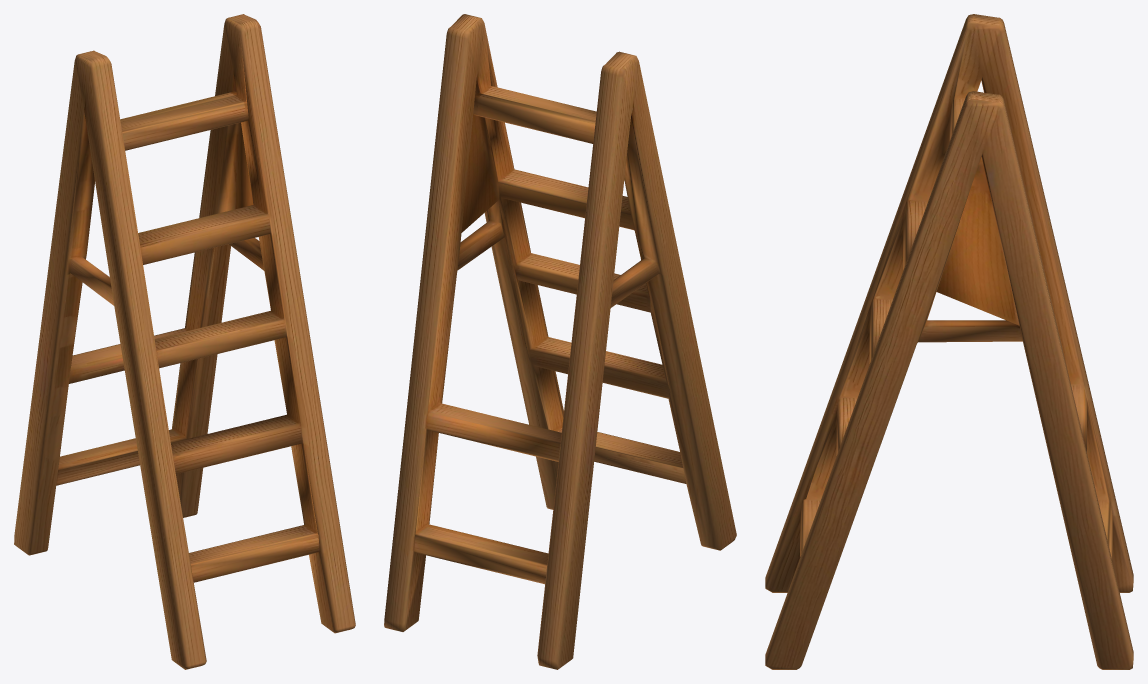
The model's file is Outdoor__a_wooden_ladder_3a9be926_v3.cluster.glb.
The picture shows the model from 3 angles, left to right: view 1: azimuth 30°, elevation 25°; view 2: azimuth 150°, elevation 25°; view 3: azimuth 270°, elevation 25°; orthographic projection. The views are drawn at different scales.
Visible parts, largest first — view 1: material; view 2: material; view 3: material.
Boxes of the visible parts, <box> form: material: <box>14,14,355,669</box>; material: <box>384,14,736,669</box>; material: <box>765,14,1133,669</box>.
Size of the model in its own units: 0.6268 by 1.9 by 1.11.
1 material, 1 textured.
